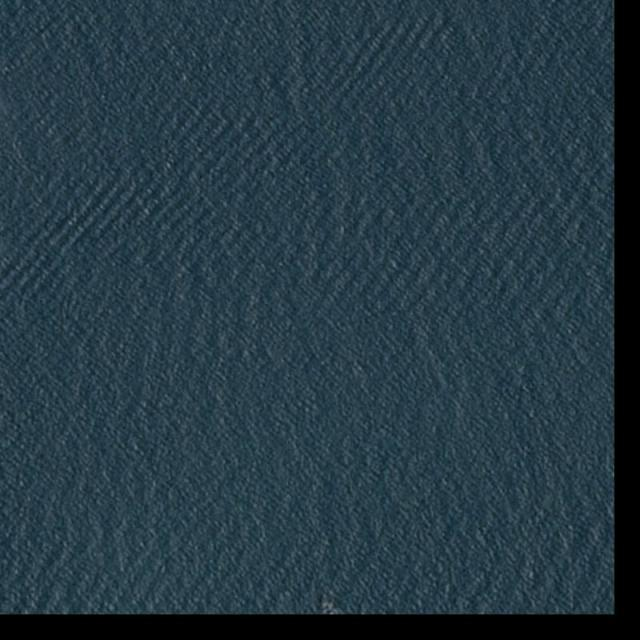ship: (322, 602, 333, 614)
